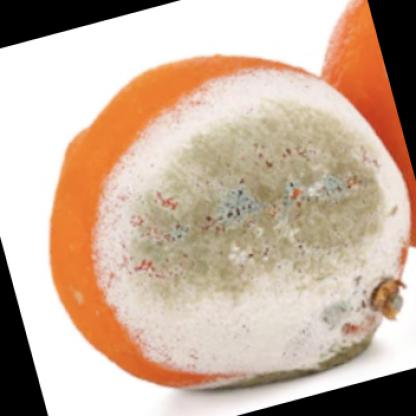rotten_orange: (41, 39, 411, 394)
